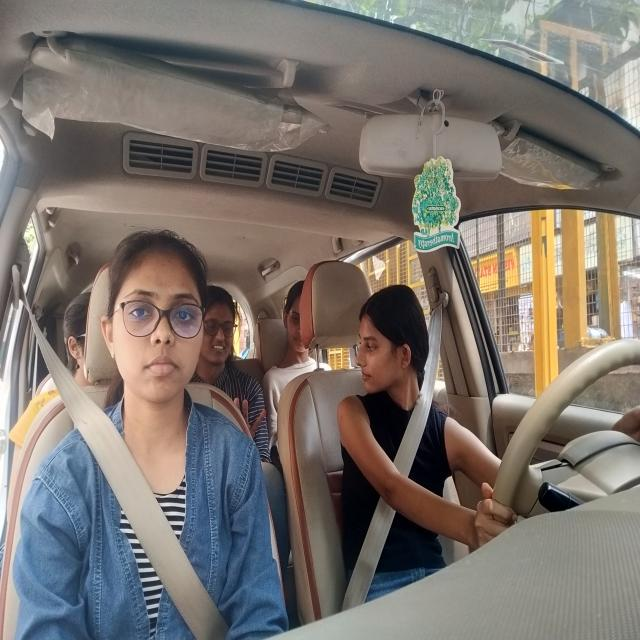LeftRight: (354, 283, 433, 412)
person: (108, 229, 207, 408), (62, 279, 92, 384), (205, 285, 239, 375), (286, 270, 314, 366)
